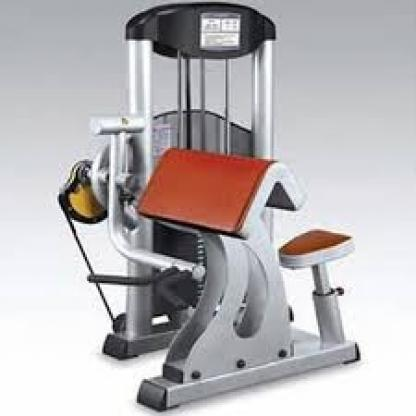arm curl machine: (59, 4, 362, 411)
